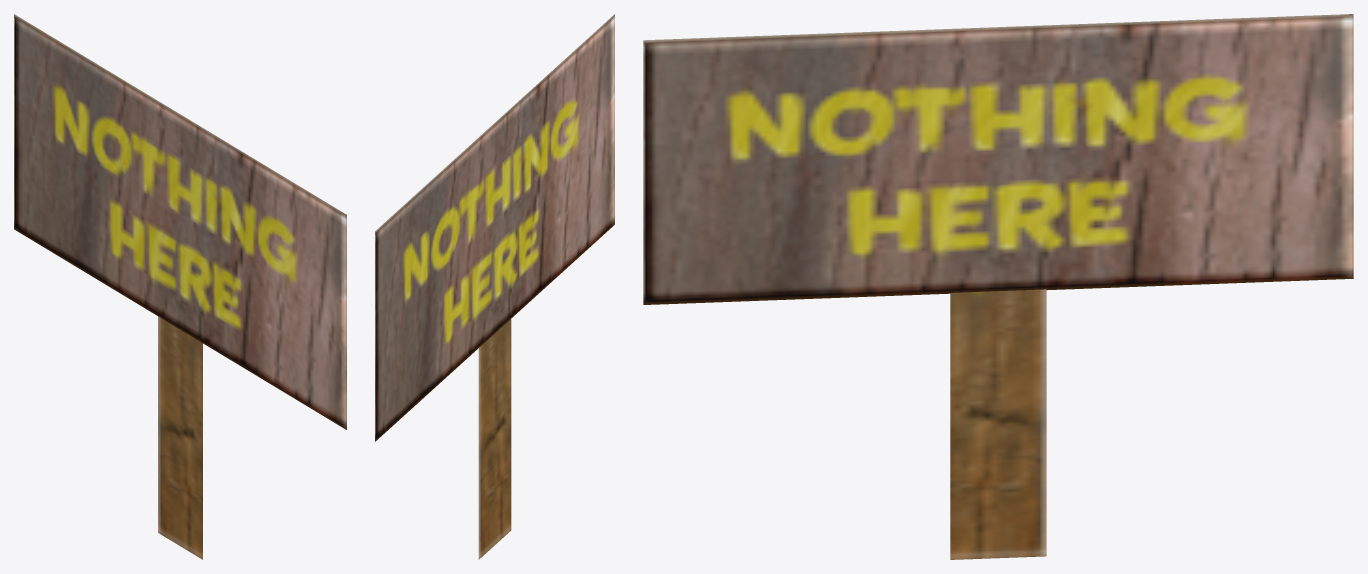
File: wrongtway13.glb
3 renders of one model, left to right at view 1: azimuth 30°, elevation 25°; view 2: azimuth 150°, elevation 25°; view 3: azimuth 270°, elevation 25°, orthographic. The views are drawn at different scales.
Visible parts, largest first — view 1: wrongtway13; view 2: wrongtway13; view 3: wrongtway13.
Boxes of the visible parts, bbox=[...] form: wrongtway13: bbox=[14, 14, 346, 559]; wrongtway13: bbox=[375, 14, 614, 559]; wrongtway13: bbox=[643, 14, 1353, 559].
Bounding box in the file's own units: 49.69 × 469 × 568.
1 material, 1 textured.
